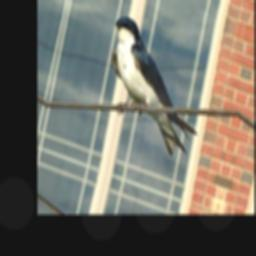Swallow: (92, 12, 217, 165)
